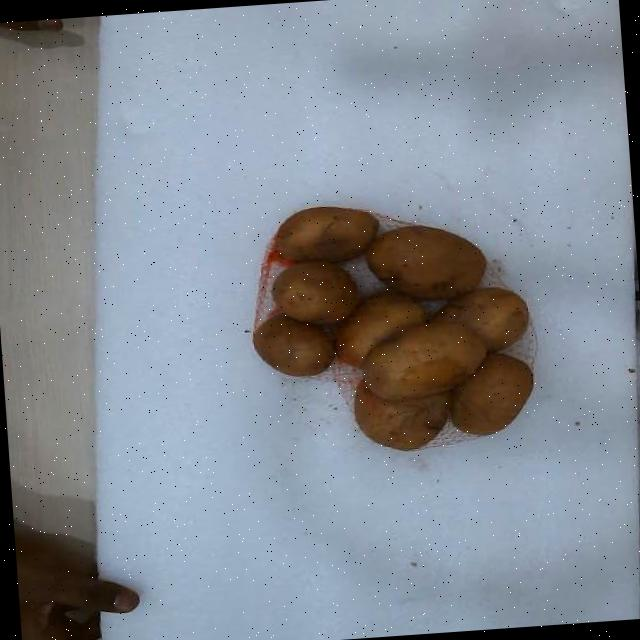potato: (361, 321, 486, 399), (365, 224, 484, 298), (336, 290, 425, 366), (354, 378, 449, 449), (450, 352, 532, 434), (432, 286, 527, 349), (273, 205, 377, 260), (271, 260, 359, 323), (252, 313, 334, 376)
